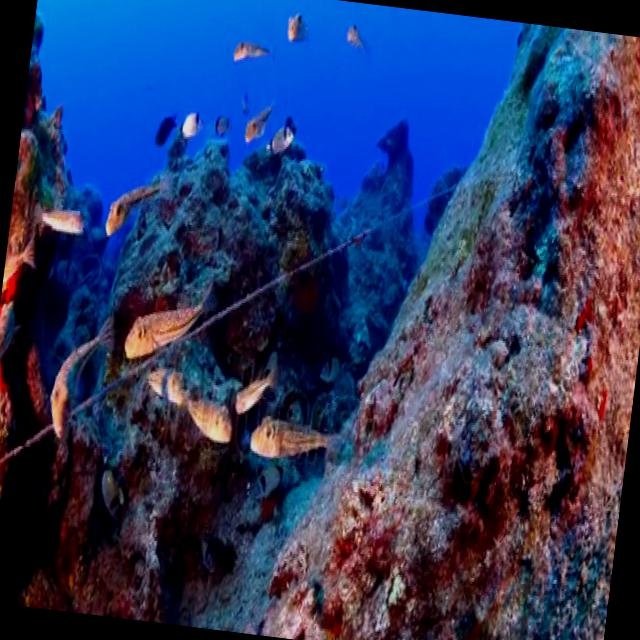Balon Baligi: (120, 274, 216, 368), (245, 402, 352, 479), (100, 168, 166, 246), (233, 344, 280, 418), (182, 386, 236, 448), (242, 94, 278, 156), (282, 1, 314, 51), (345, 15, 372, 62), (232, 36, 268, 64)
